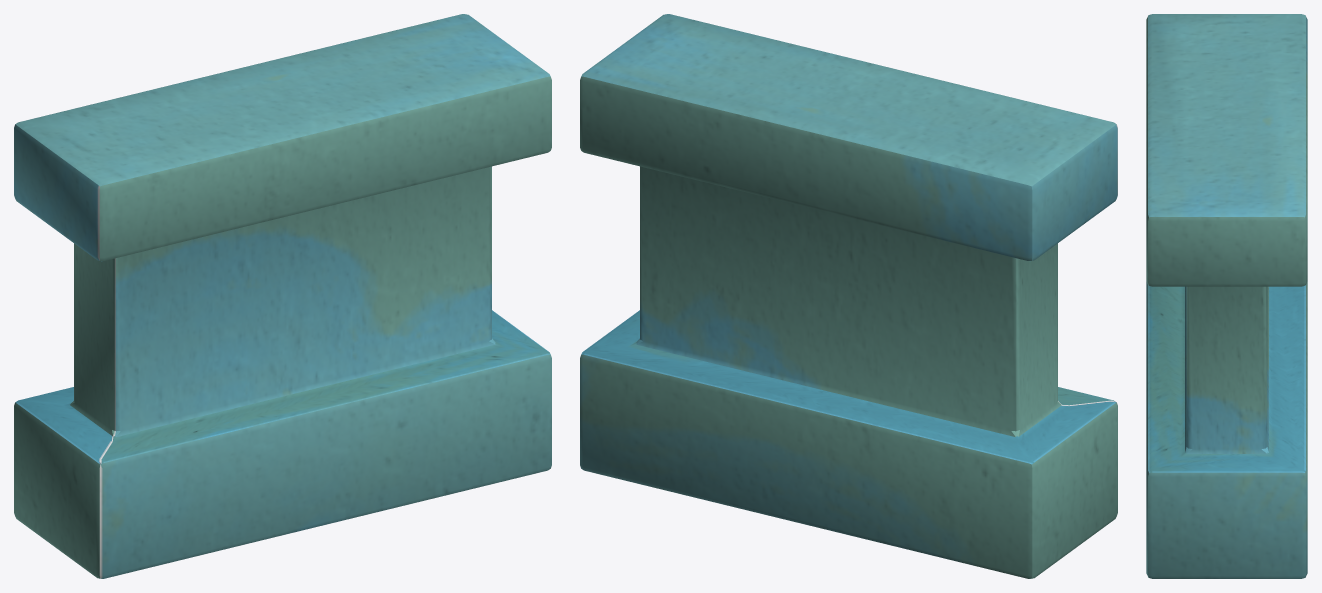
File: TOMB_WALL_1_1.obj
3 renders of one model, left to right at view 1: azimuth 30°, elevation 25°; view 2: azimuth 150°, elevation 25°; view 3: azimuth 270°, elevation 25°, orthographic. The views are drawn at different scales.
Parts seen in each view (by area): view 1: TOMB_WALL_1_1.001; view 2: TOMB_WALL_1_1.001; view 3: TOMB_WALL_1_1.001.
Part boxes in pixels (left/top/right/bottom): TOMB_WALL_1_1.001: left=14, top=14, right=551, bottom=578; TOMB_WALL_1_1.001: left=580, top=14, right=1117, bottom=578; TOMB_WALL_1_1.001: left=1146, top=14, right=1307, bottom=578.
Bounding box in the file's own units: 1.2 × 1 × 0.4.
2 materials, 2 textured.
